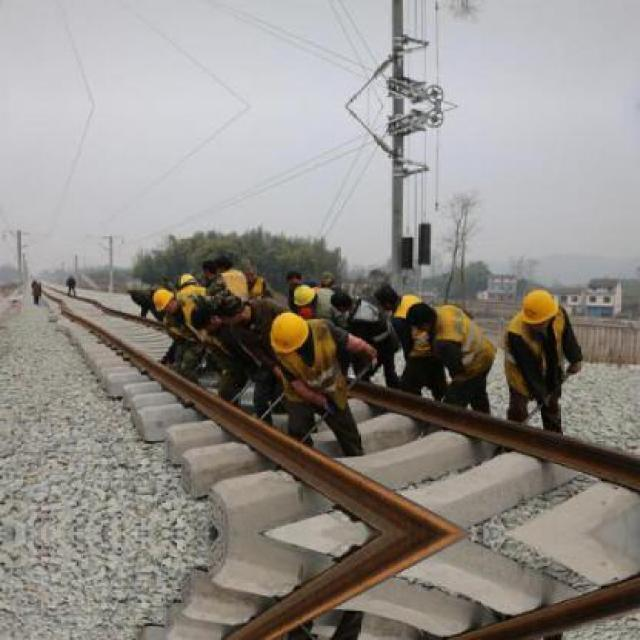reflective_jacket: (263, 321, 357, 421), (499, 307, 578, 407), (427, 299, 501, 382)
safety_helmet: (264, 310, 313, 358), (514, 284, 563, 327), (286, 279, 321, 313), (149, 285, 176, 313), (175, 271, 199, 289)
